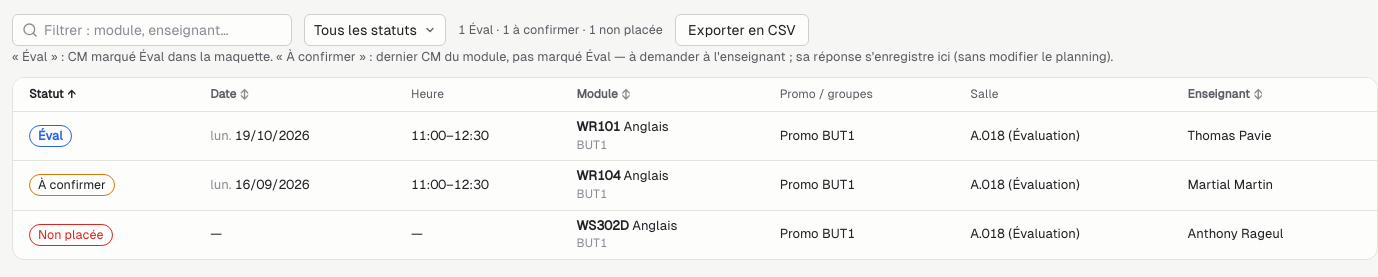
Scenario: EvaluationsReference › should list Eval, last CM to confirm and unplaced ones with their teacher
This screenshot has width=1378, height=277.
Expected: the text "WR101" is shown, [576, 119, 620, 134]
Expected: the text "Thomas Pavie" is shown, [1176, 112, 1377, 161]
Step 1. Select "À confirmer" in the dropdown named "Statut" → (375, 30), box [304, 14, 446, 46]
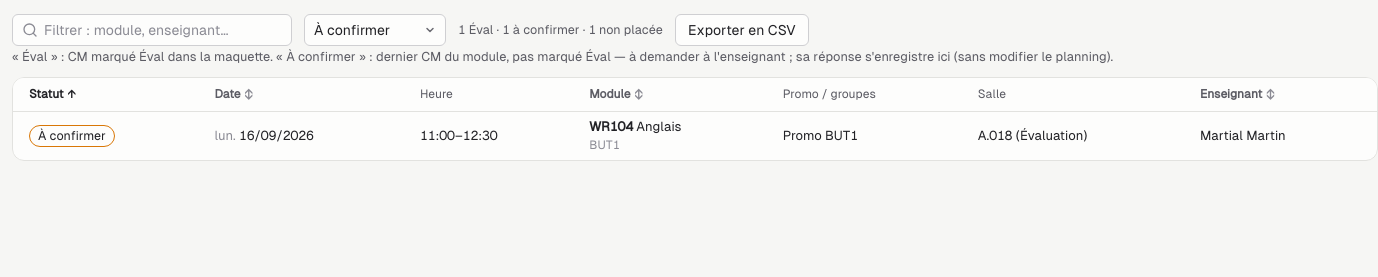
Expected: the text "WR104" is shown, [589, 119, 633, 134]
Expected: the text "WR101" is gone
